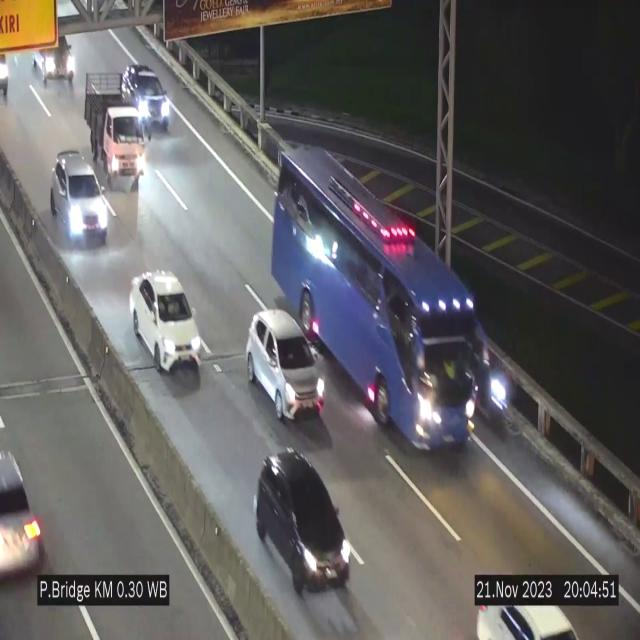Bus: (271, 146, 478, 450)
Car: (255, 446, 352, 599), (246, 310, 324, 420), (0, 442, 49, 594), (130, 271, 201, 373), (470, 579, 583, 640), (51, 151, 109, 246), (126, 60, 172, 140), (27, 26, 77, 84), (0, 49, 14, 111)
Motorcycle: (486, 362, 508, 440)
Truck: (85, 72, 146, 200)
